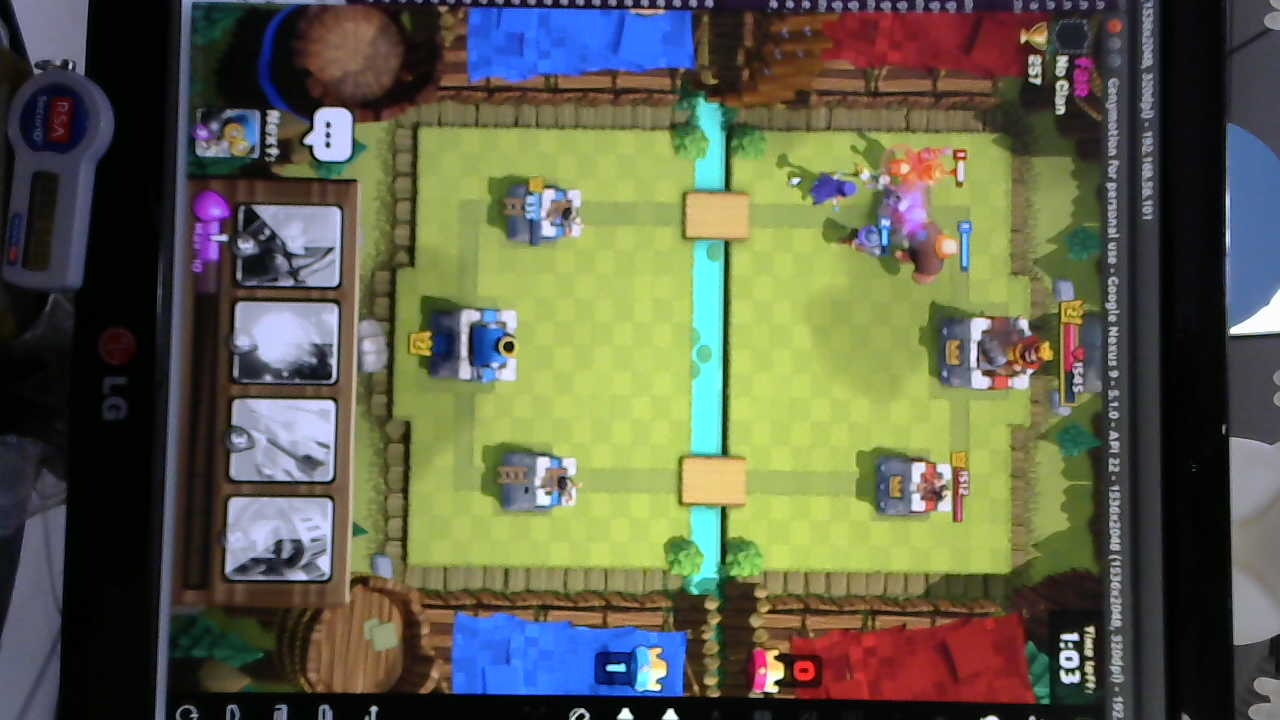arena: (497, 447, 583, 518), (505, 180, 581, 243)
earena: (870, 458, 955, 524)
eking: (939, 314, 1037, 395)
giant: (896, 203, 952, 286)
king: (428, 304, 525, 387)
musketeer: (840, 219, 885, 259)
prince: (887, 141, 951, 190)
witch: (806, 164, 873, 207)
